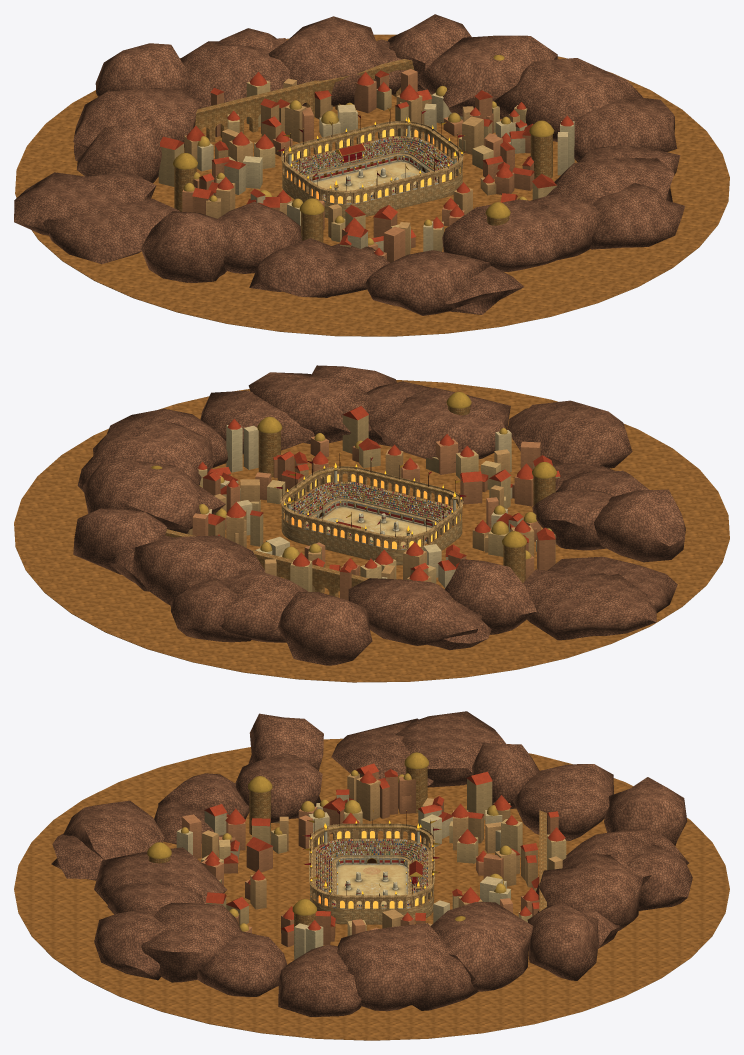
File: arena_colosseum.glb
The picture shows the model from 3 angles, top to bottom: view 1: azimuth 30°, elevation 25°; view 2: azimuth 150°, elevation 25°; view 3: azimuth 270°, elevation 25°; orthographic projection.
Visible parts, largest first — view 1: Decor, Stands, Ground, Walls; view 2: Decor, Stands, Ground, Walls; view 3: Decor, Stands, Ground, Walls.
Part boxes in pixels (x1=…): Decor: x1=14, y1=14, x2=729, y2=336; Stands: x1=282, y1=136, x2=462, y2=218; Ground: x1=313, y1=161, x2=424, y2=200; Walls: x1=306, y1=153, x2=438, y2=204; Decor: x1=14, y1=365, x2=729, y2=682; Stands: x1=281, y1=481, x2=462, y2=565; Ground: x1=319, y1=507, x2=430, y2=546; Walls: x1=305, y1=499, x2=438, y2=549; Decor: x1=14, y1=711, x2=729, y2=1040; Stands: x1=310, y1=838, x2=433, y2=924; Ground: x1=336, y1=863, x2=407, y2=905; Walls: x1=333, y1=856, x2=410, y2=908.
Size of the model in its own units: 326 by 31.56 by 320.
Materials: 16 (11 with a texture image).
